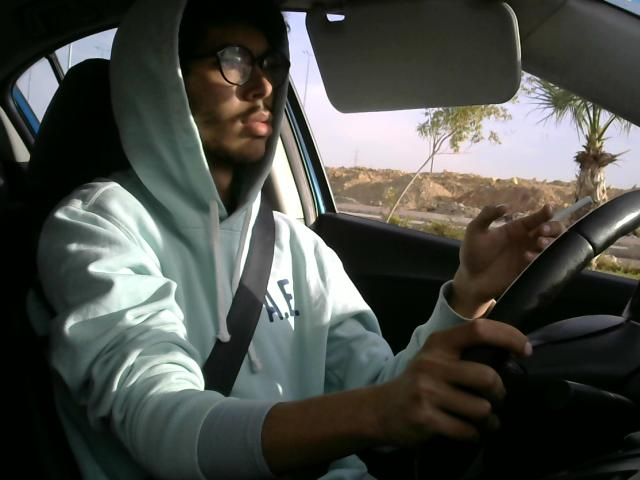Smoking: (521, 188, 596, 246)
